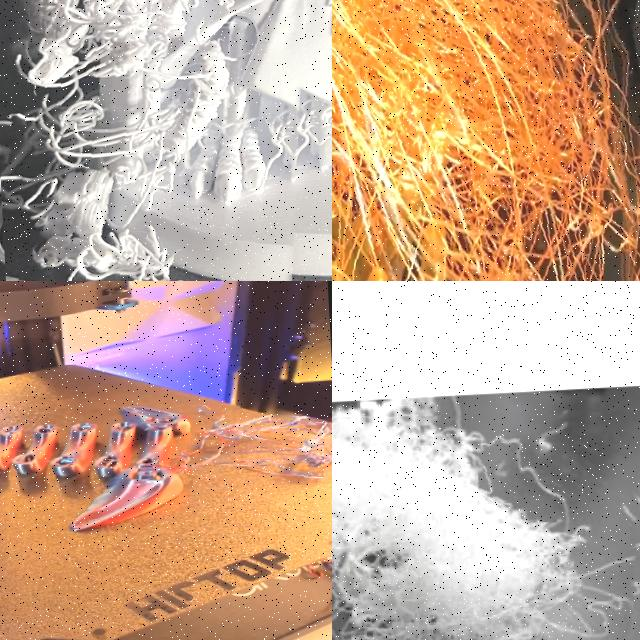spaghetti: (0, 0, 332, 281), (332, 0, 640, 281), (332, 397, 640, 640), (189, 394, 332, 491)
